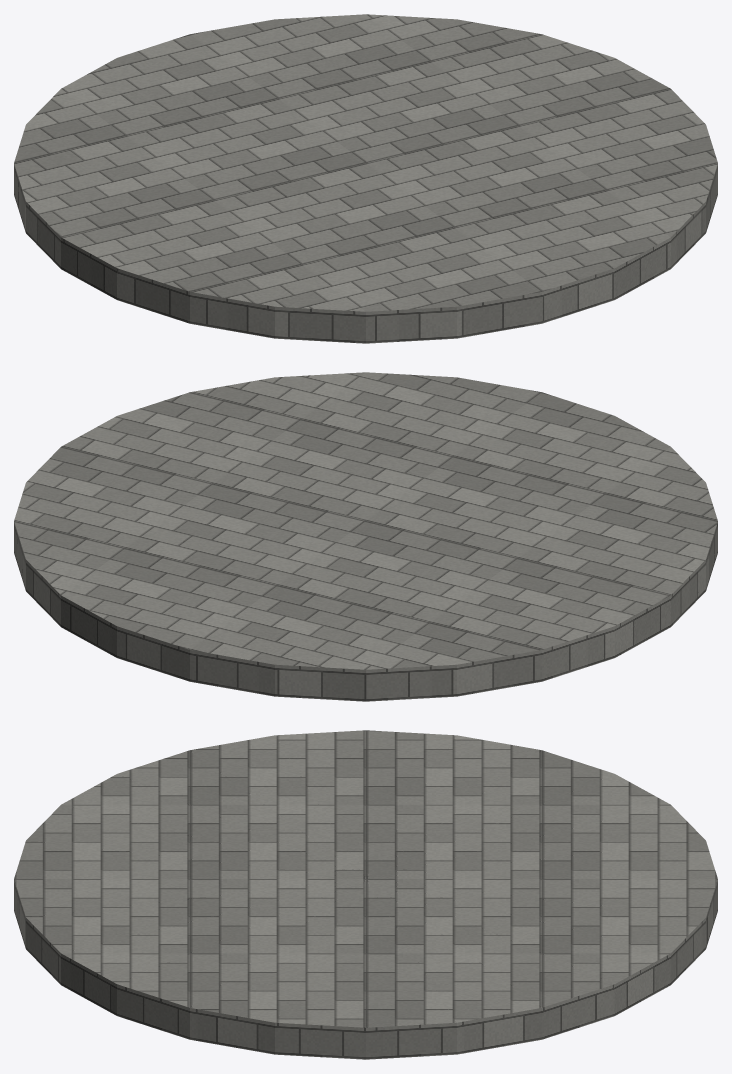
The model's file is turntable.obj.
3 renders of one model, top to bottom at view 1: azimuth 30°, elevation 25°; view 2: azimuth 150°, elevation 25°; view 3: azimuth 270°, elevation 25°, orthographic.
Bounding box in the file's own units: 4 × 0.2 × 4.
Materials: 1 (1 with a texture image).
